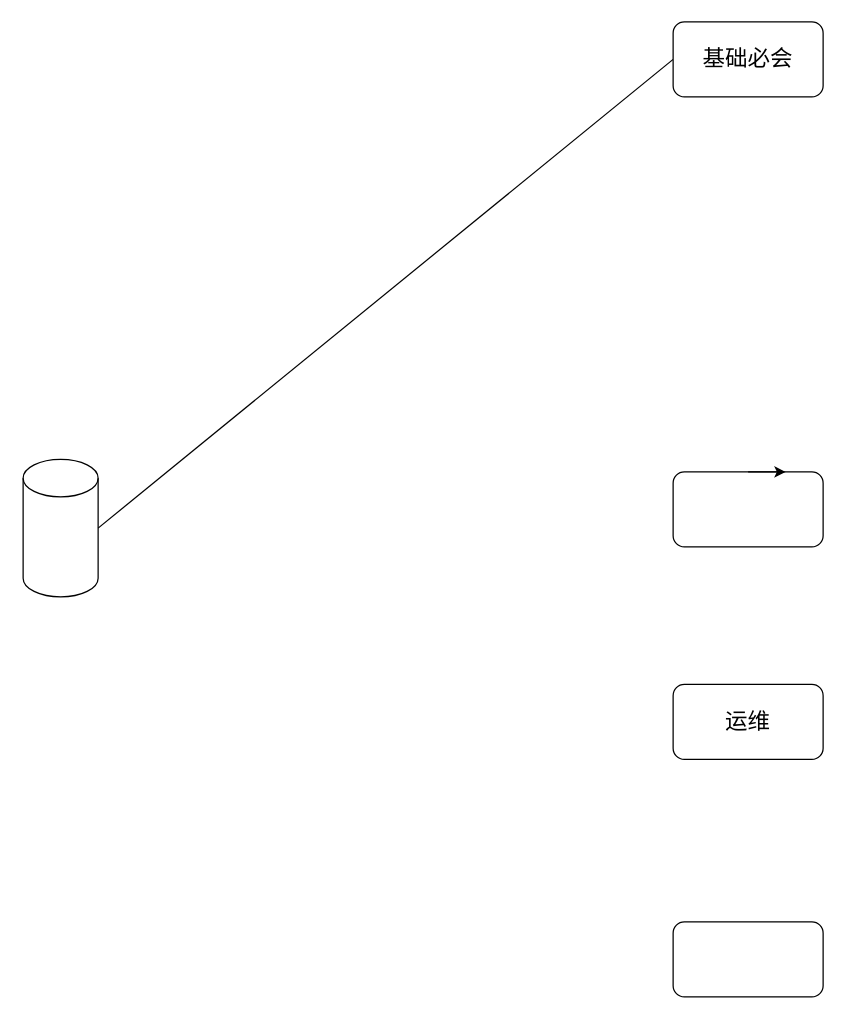
Image size: 845x1019. Some labels were removed from this diagram. Each missing label, with the centre of its shape:
"MySQL" goes at (60,527).
"进阶" goes at (747,509).
